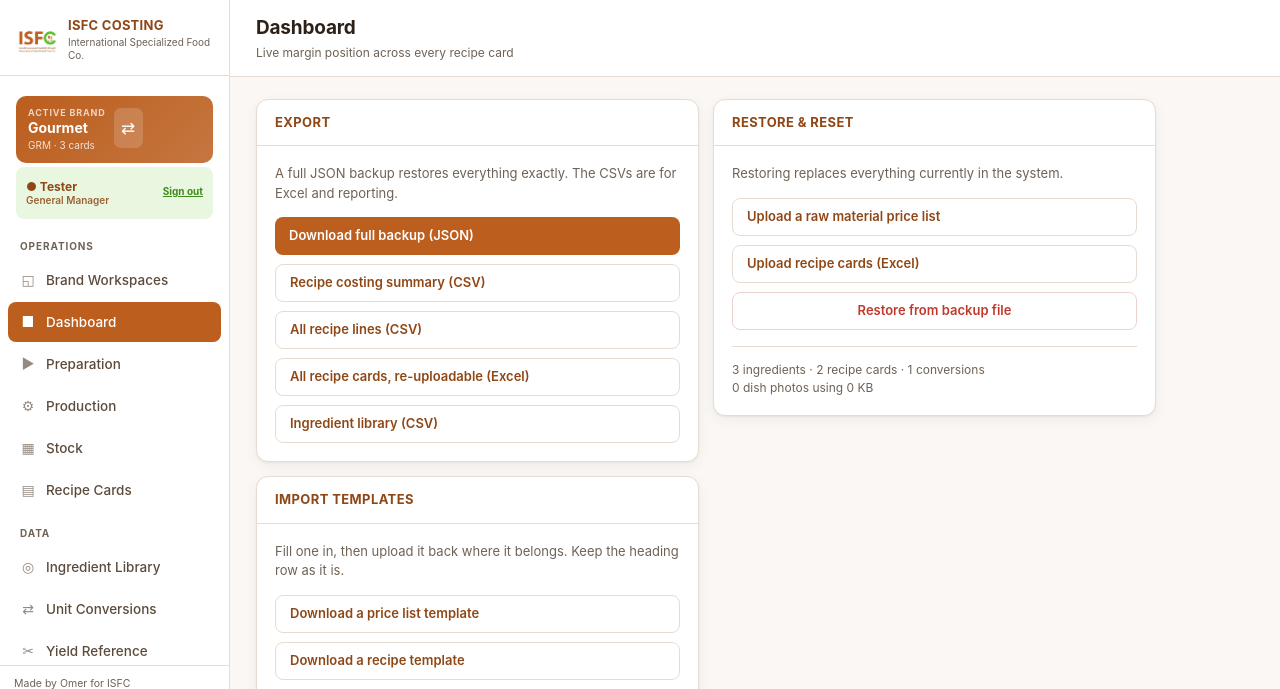
Test: exports download through fetch, so a refusal is a message and not a page of JSON (D-90) › a refused download shows the message and the screen stays
The width and height of the screenshot is (1280, 689).
Click the button "Recipe costing summary (CSV)". click: (478, 283)
box: [275,264,680,302]
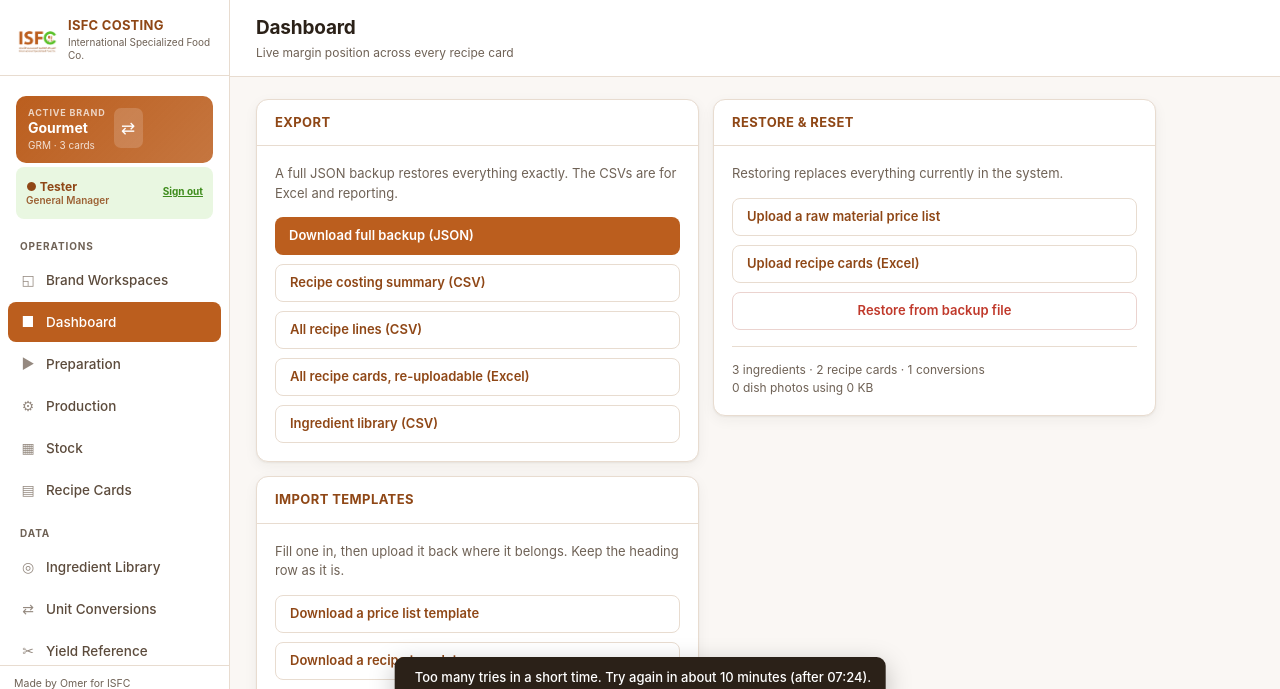
Expected: the heading "Import templates" is shown, [257,477,698,524]
Expected: the text "Too many tries in a short time. Try again in about 10 minutes" is shown, [415,668,871,684]
